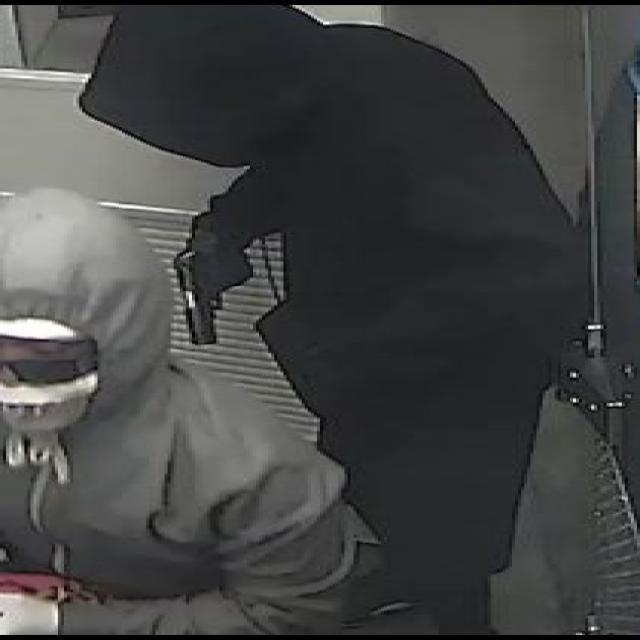gun: (168, 232, 262, 348)
